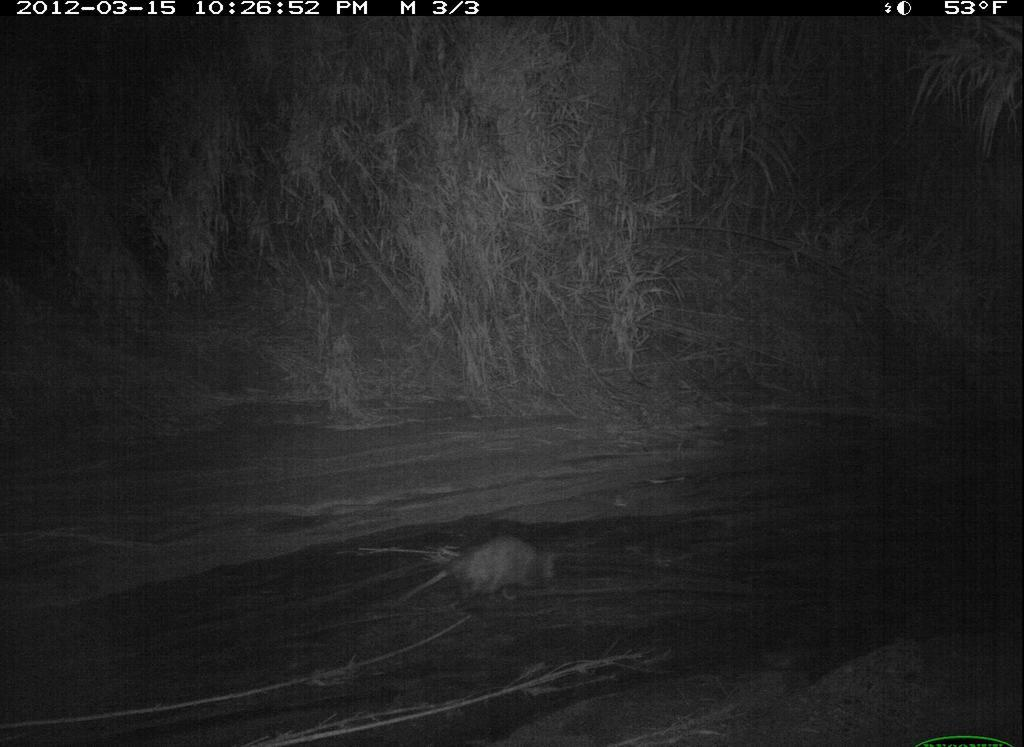opossum: (379, 528, 566, 623)
